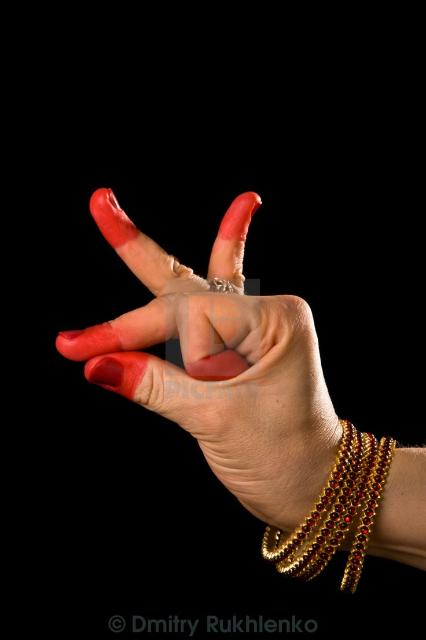bhramara: (55, 188, 426, 596)
